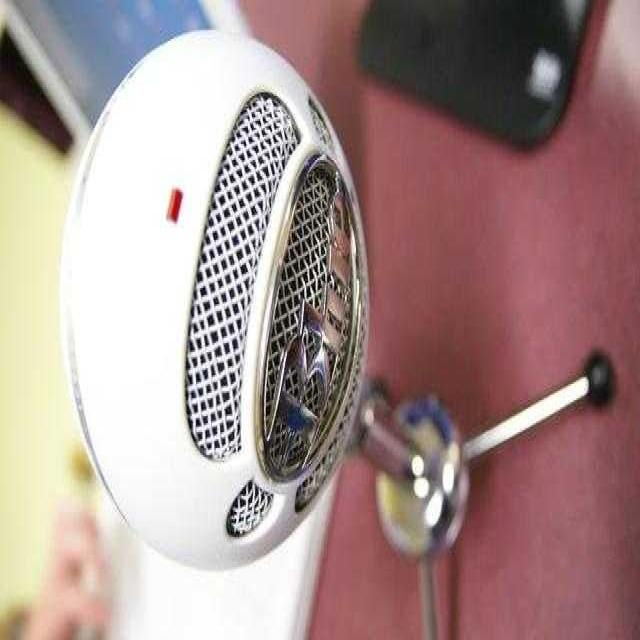microphone: (60, 25, 374, 571)
